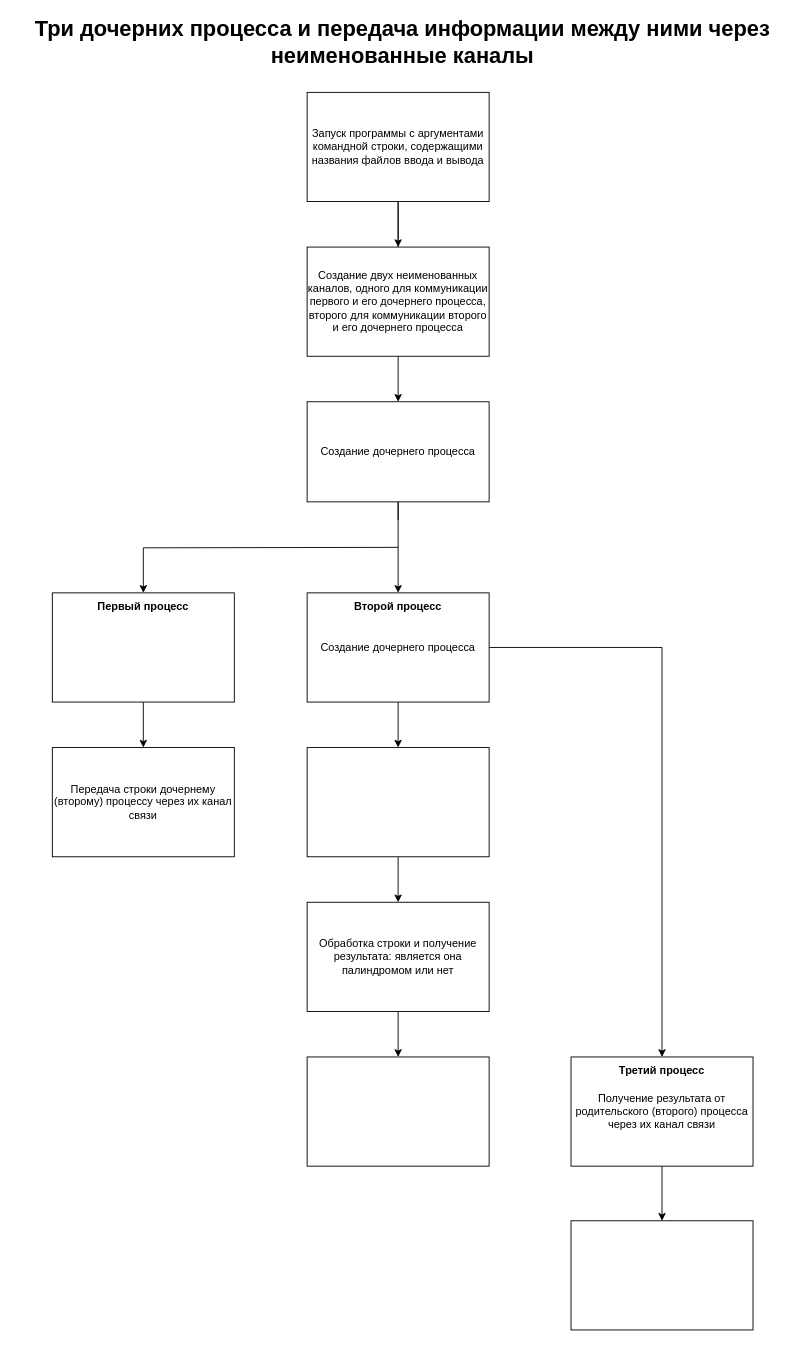
This 804x1346 diagram has some shape labels left out. Here are the shapes that lost their labels. From the top down, the box of each, then its label:
(51, 592, 234, 702): Ввод строки из указанного при запуске программы файла ввода
(306, 747, 489, 857): Получение строки от родительского (первого) процесса через их канал связи
(306, 1056, 489, 1166): Передача результата дочернему (третьему) процессу через их канал связи
(570, 1220, 753, 1330): Вывод результата в указанный при запуске программы файл вывода
